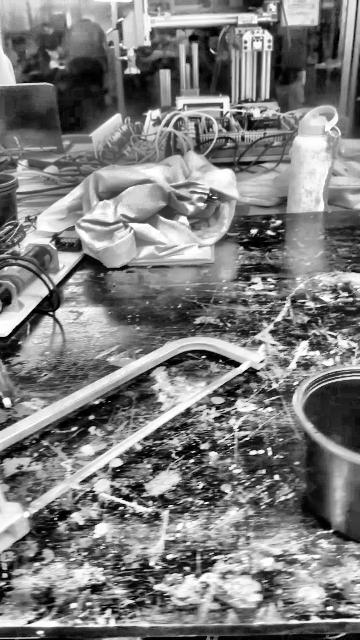pot: (293, 366, 359, 542)
